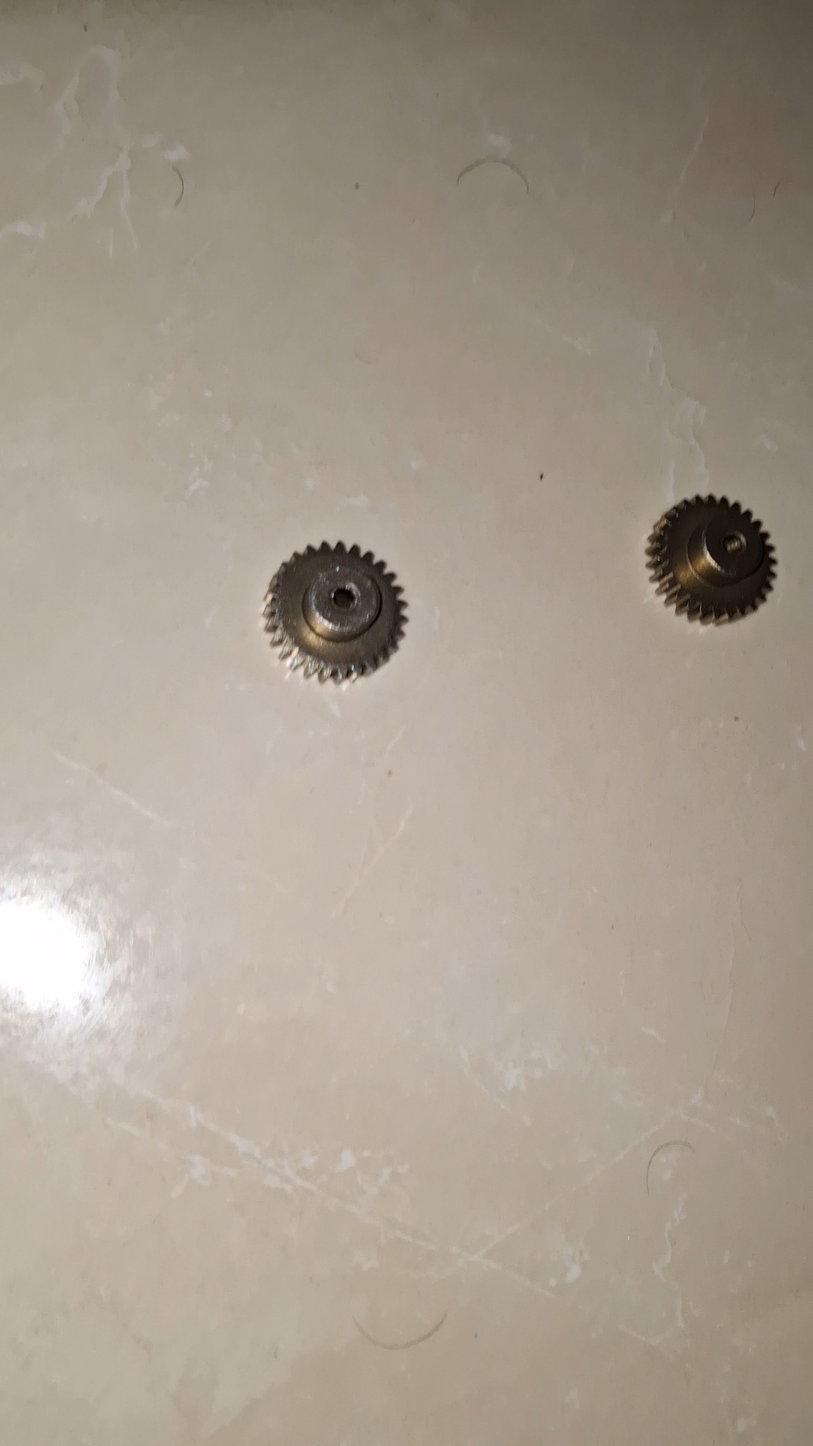spur gear: (263, 542, 405, 680), (648, 495, 775, 622)
